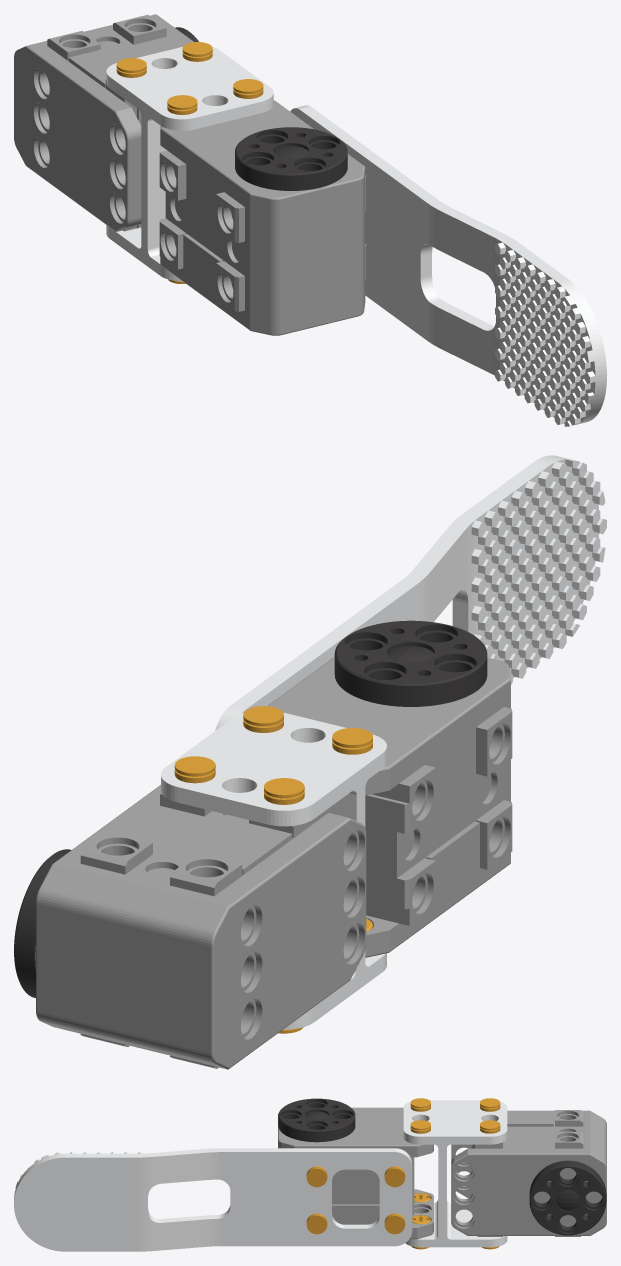
Rendered from section_4.dae.
3 renders of one model, top to bottom at view 1: azimuth 30°, elevation 25°; view 2: azimuth 150°, elevation 25°; view 3: azimuth 270°, elevation 25°, orthographic. The views are drawn at different scales.
Visible parts, largest first — view 1: body (×2), fixed_part, fixation, horn; view 2: body (×2), fixed_part, fixation, horn (×2); view 3: fixed_part, body (×2), horn (×2), fixation, insert (×4).
Boxes of the visible parts, x1,y1,x2,y2 form: body (×2): (14, 14, 366, 335); fixed_part: (290, 105, 606, 426); fixation: (106, 46, 273, 281); horn: (235, 127, 347, 190); body (×2): (35, 657, 512, 1069); fixed_part: (215, 455, 606, 730); fixation: (161, 712, 386, 1029); horn (×2): (14, 620, 487, 997); fixed_part: (14, 1148, 412, 1251); body (×2): (278, 1107, 606, 1239); horn (×2): (278, 1098, 606, 1235); fixation: (403, 1100, 507, 1247); insert (×4): (306, 1168, 405, 1234).
Bounding box in the file's own units: 0.0291 × 0.137 × 0.0307.
